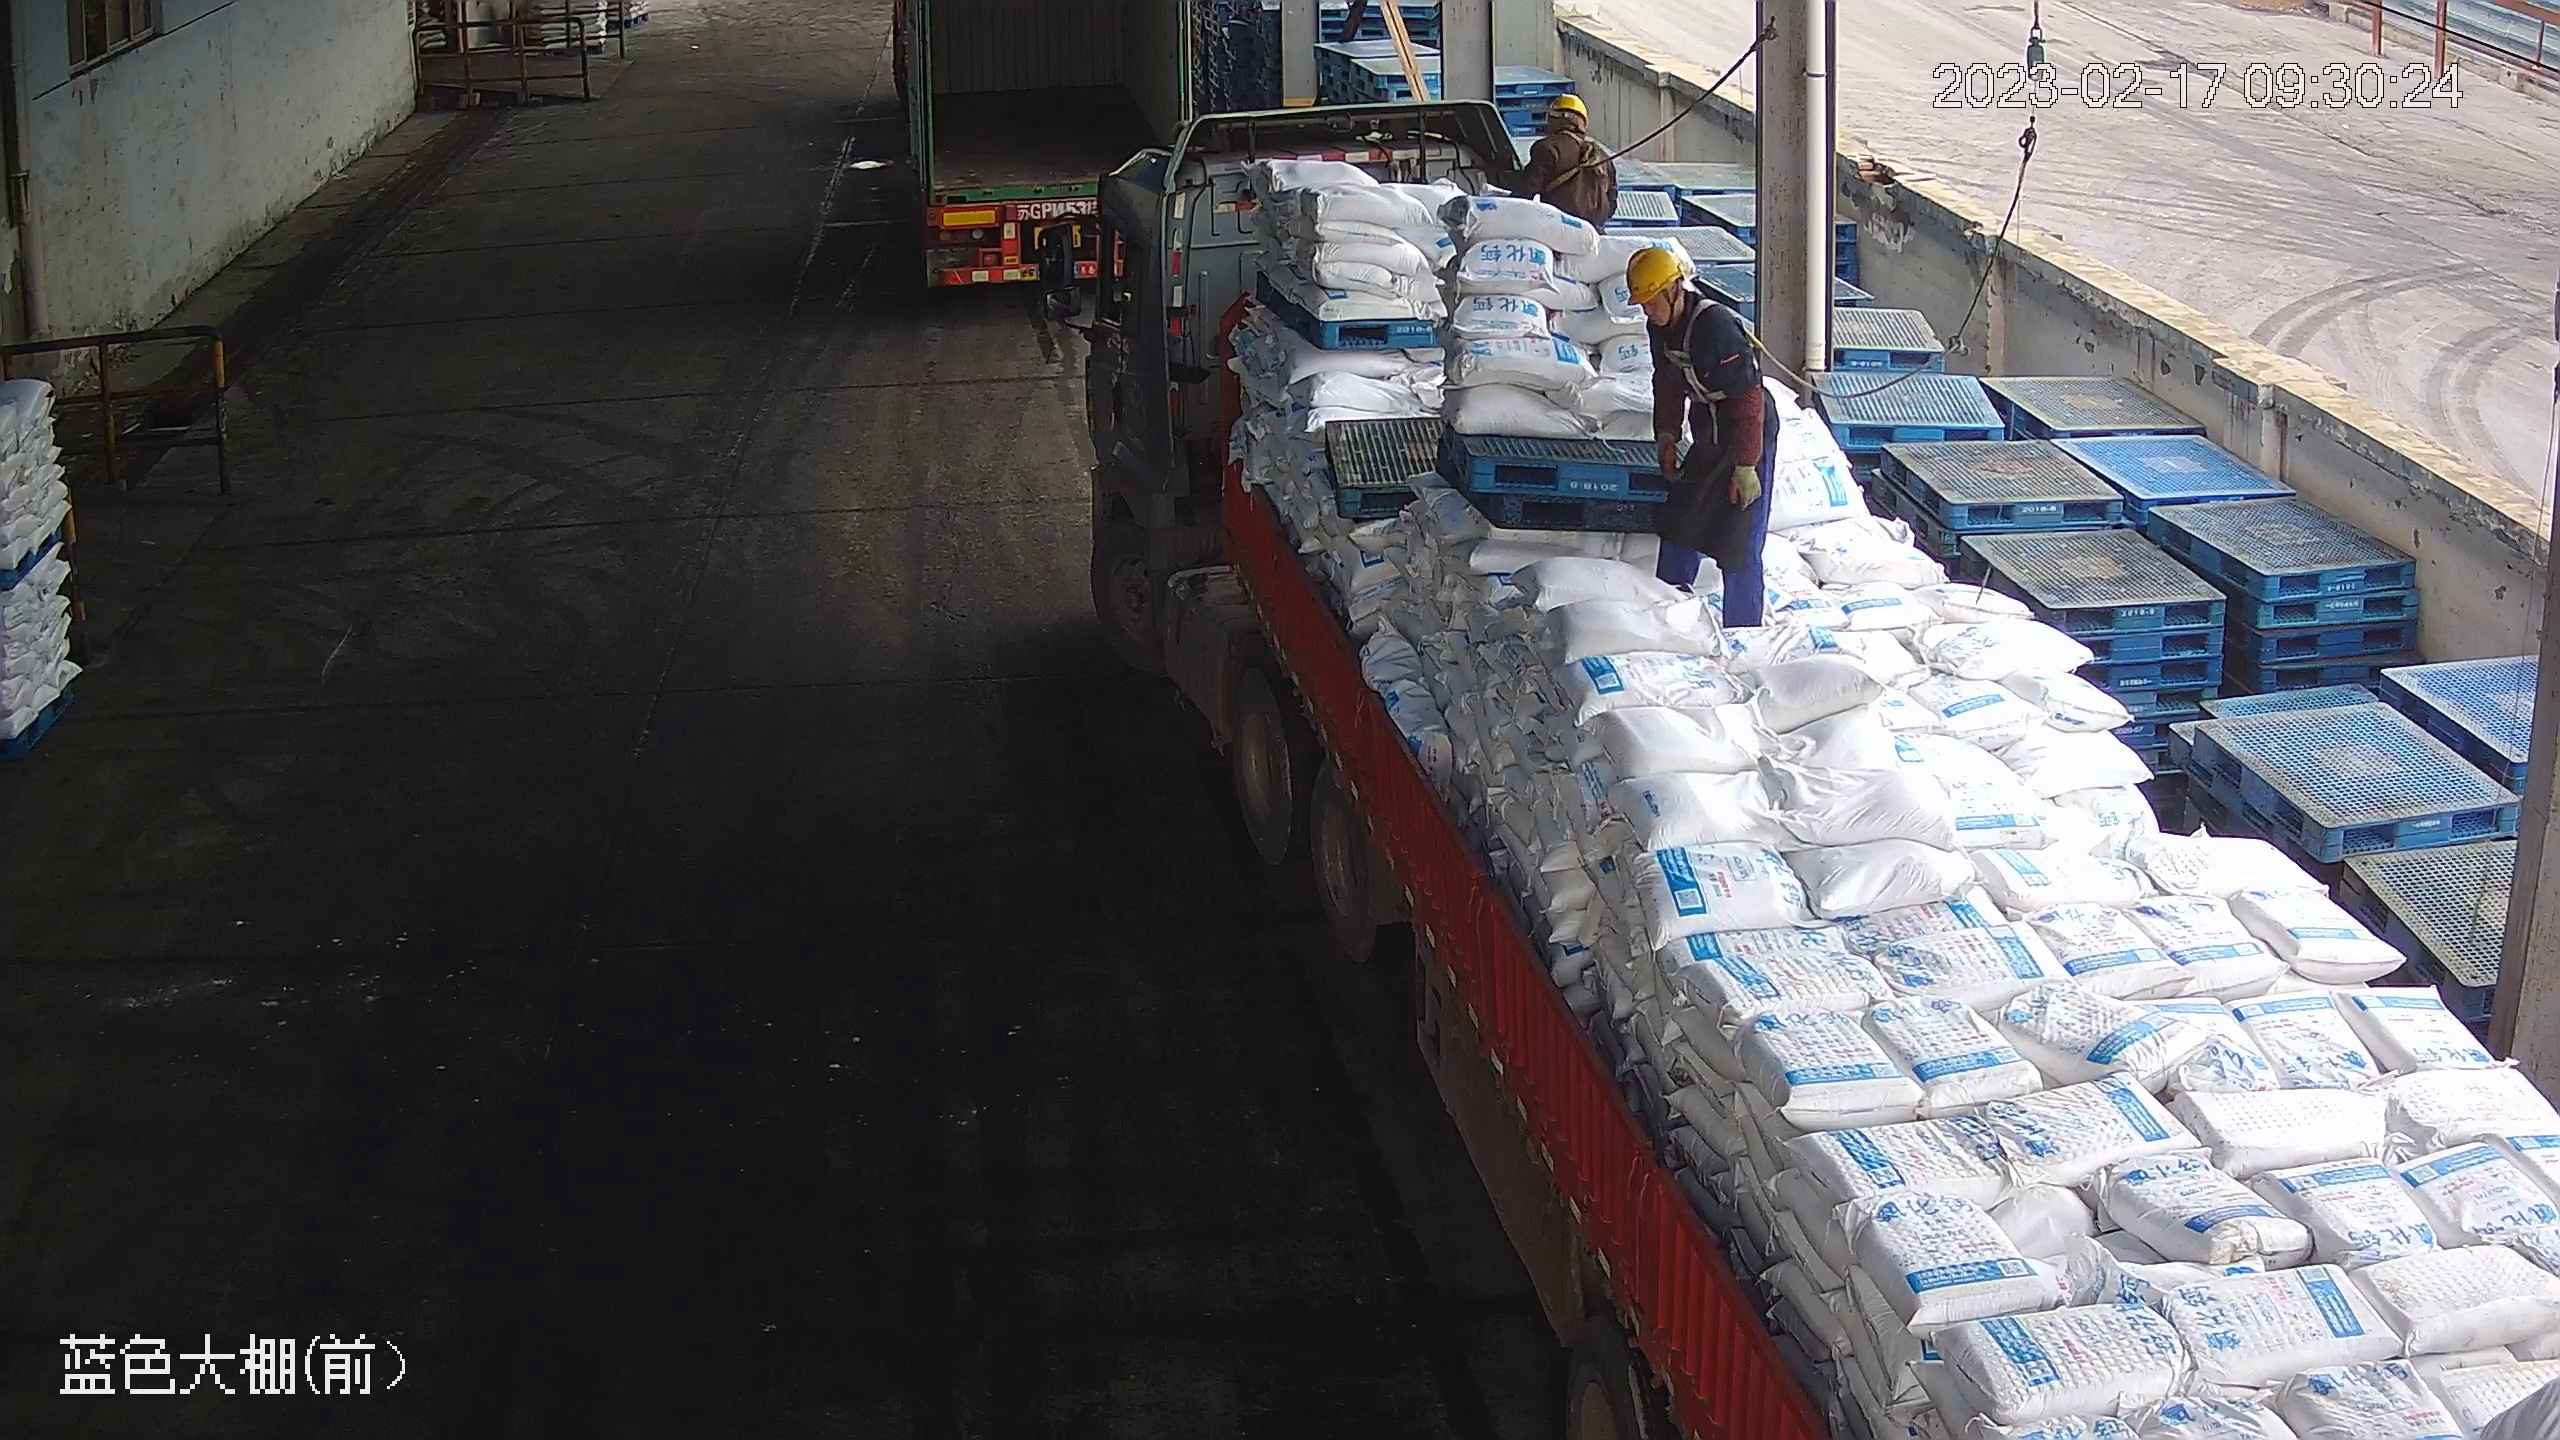belt: (1663, 300, 1762, 405), (1539, 127, 1622, 205)
head: (1625, 248, 1735, 371), (1513, 93, 1619, 200)
helmet: (1625, 248, 1683, 307), (1549, 94, 1589, 124)
people: (1623, 244, 1783, 631)
truck: (1037, 96, 2560, 1440), (884, 1, 1203, 317)
